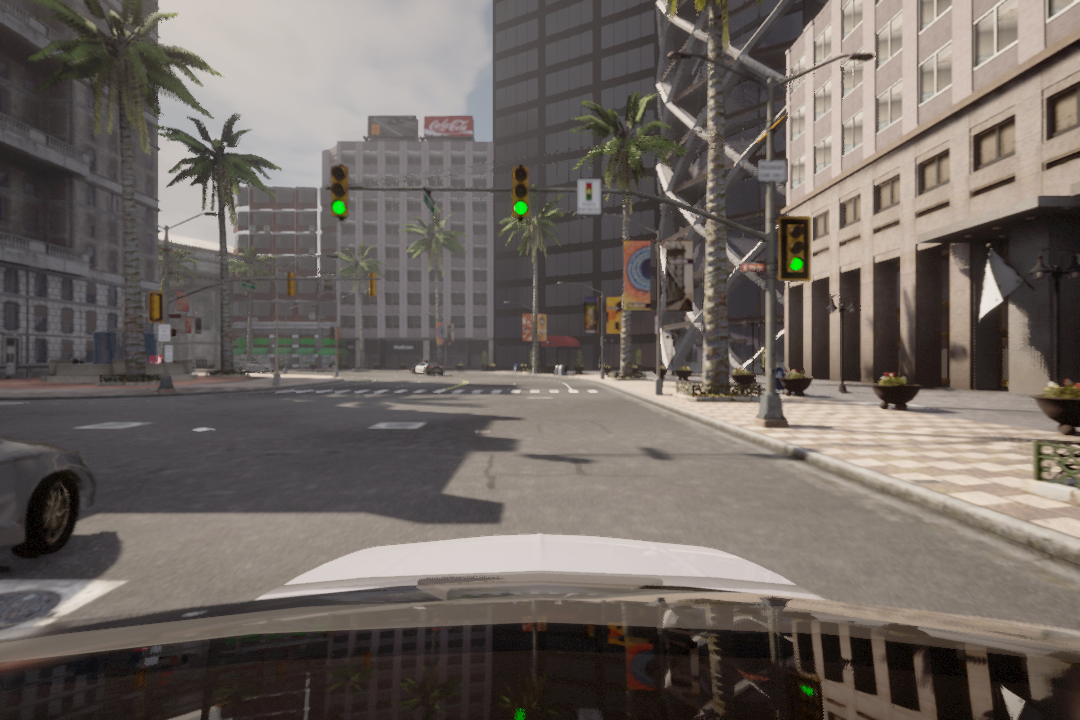TrafficLight: (778, 218, 817, 279), (330, 164, 352, 221), (511, 164, 529, 217)
